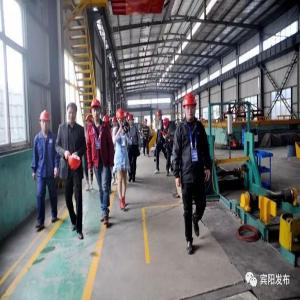none: (66, 102, 78, 125)
red: (184, 94, 198, 123), (91, 99, 102, 122), (41, 110, 51, 134), (129, 114, 135, 128), (158, 110, 163, 122)
yellow: (116, 110, 125, 126)
